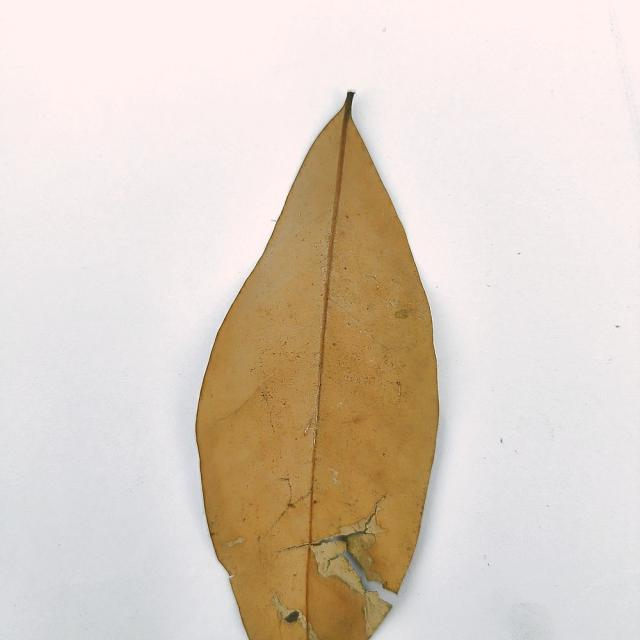Dry_Leaf-Lychee: (194, 95, 440, 639)
